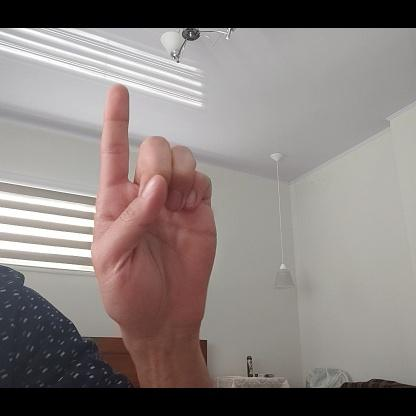D: (91, 84, 220, 336)
